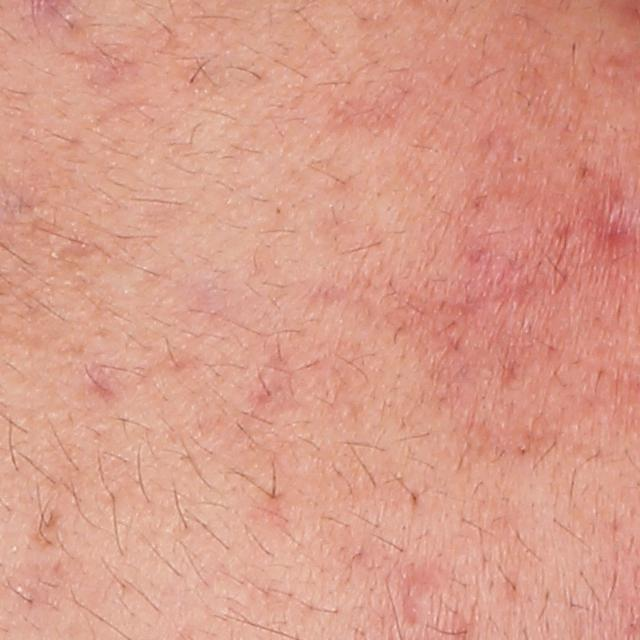atrophic_scar: (445, 263, 550, 318), (395, 557, 455, 633), (83, 366, 122, 407)
comedo: (512, 151, 531, 168)
